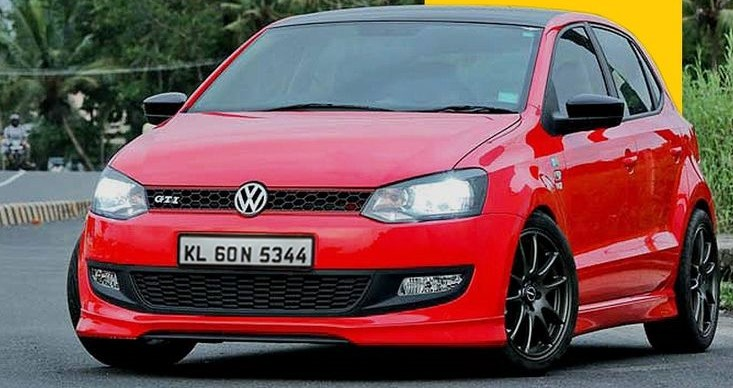KL60N5344: (178, 235, 313, 267)
